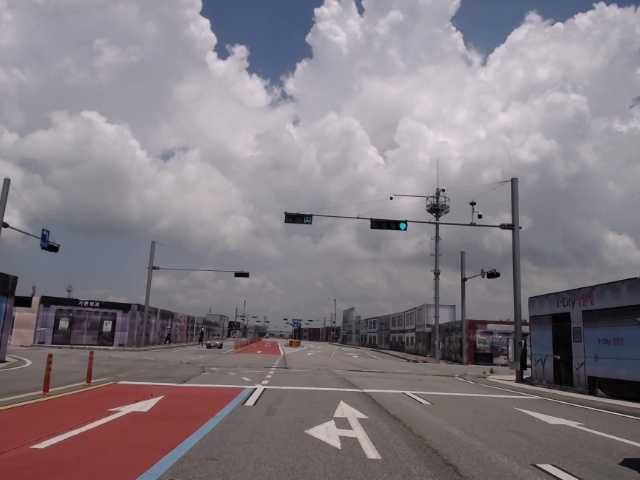straight_green_4: (371, 219, 410, 231)
